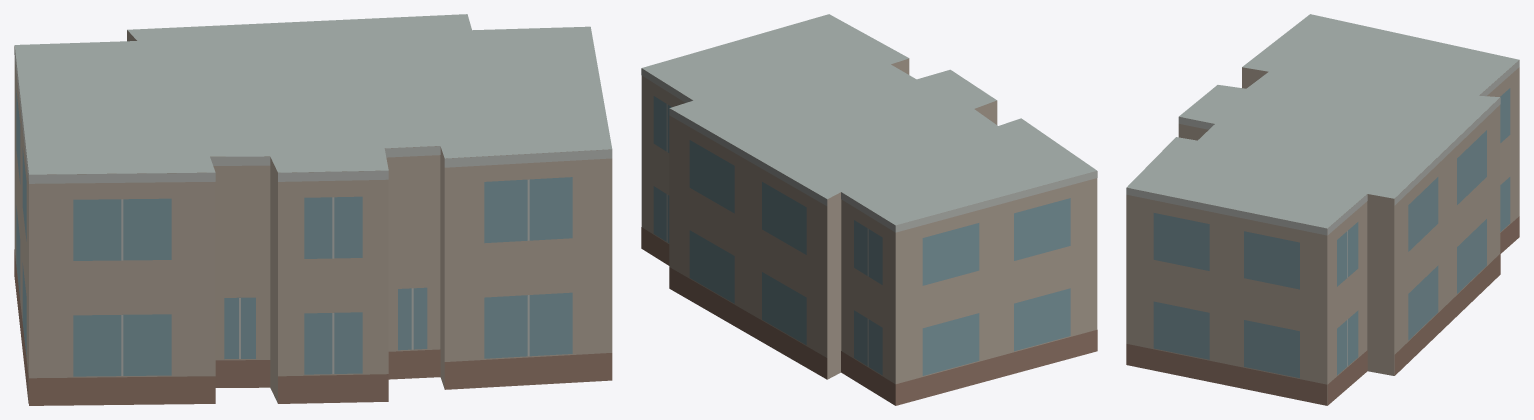
The model's file is survey-upis-32539409.glb.
3 views of the same model, side by side, from view 1: azimuth 30°, elevation 25°; view 2: azimuth 150°, elevation 25°; view 3: azimuth 270°, elevation 25° (orthographic). The views are drawn at different scales.
Parts seen in each view (by area): view 1: survey-upis-32539409.tmp; view 2: survey-upis-32539409.tmp; view 3: survey-upis-32539409.tmp.
Part boxes in pixels (x1=…): survey-upis-32539409.tmp: x1=14, y1=14, x2=612, y2=405; survey-upis-32539409.tmp: x1=641, y1=14, x2=1097, y2=405; survey-upis-32539409.tmp: x1=1126, y1=14, x2=1519, y2=405.
Size of the model in its own units: 15.83 by 6.1 by 12.27.
